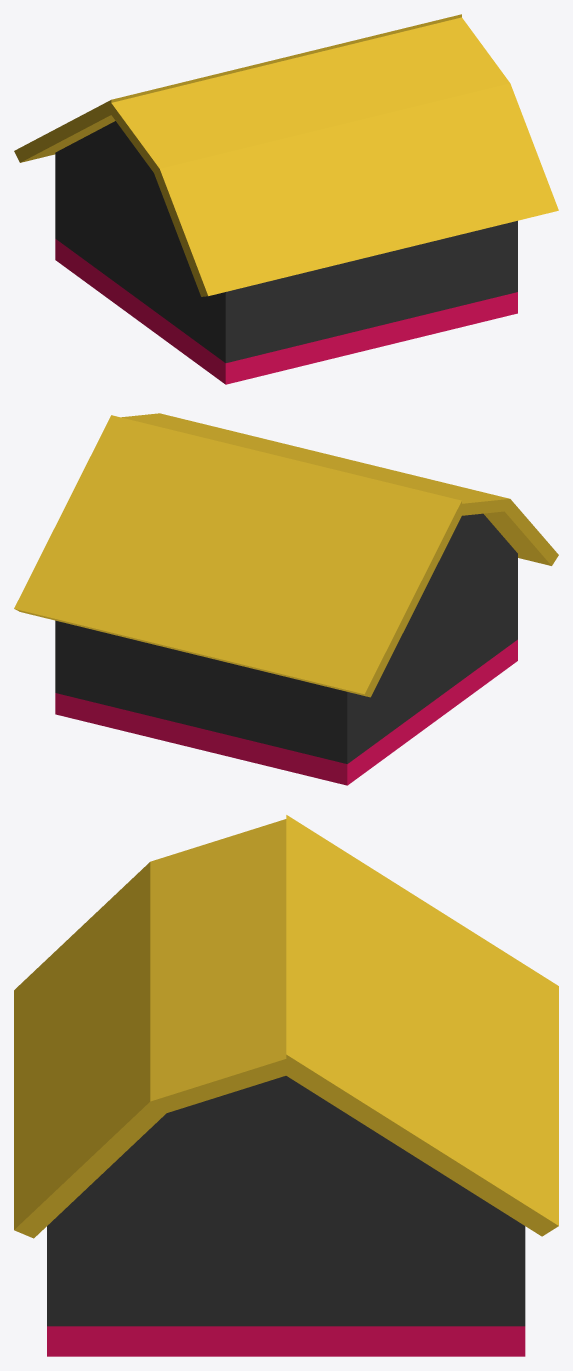
Rendered from Demo_Farm.fbx.
The picture shows the model from 3 angles, top to bottom: view 1: azimuth 30°, elevation 25°; view 2: azimuth 150°, elevation 25°; view 3: azimuth 270°, elevation 25°; orthographic projection. The views are drawn at different scales.
Visible parts, largest first — view 1: mergedBlocks; view 2: mergedBlocks; view 3: mergedBlocks.
Part boxes in pixels (x1,y1,x2,y2): mergedBlocks: [14, 14, 558, 384]; mergedBlocks: [14, 413, 558, 785]; mergedBlocks: [14, 815, 558, 1356].
Size of the model in its own units: 34.2 by 21.41 by 32.83.
